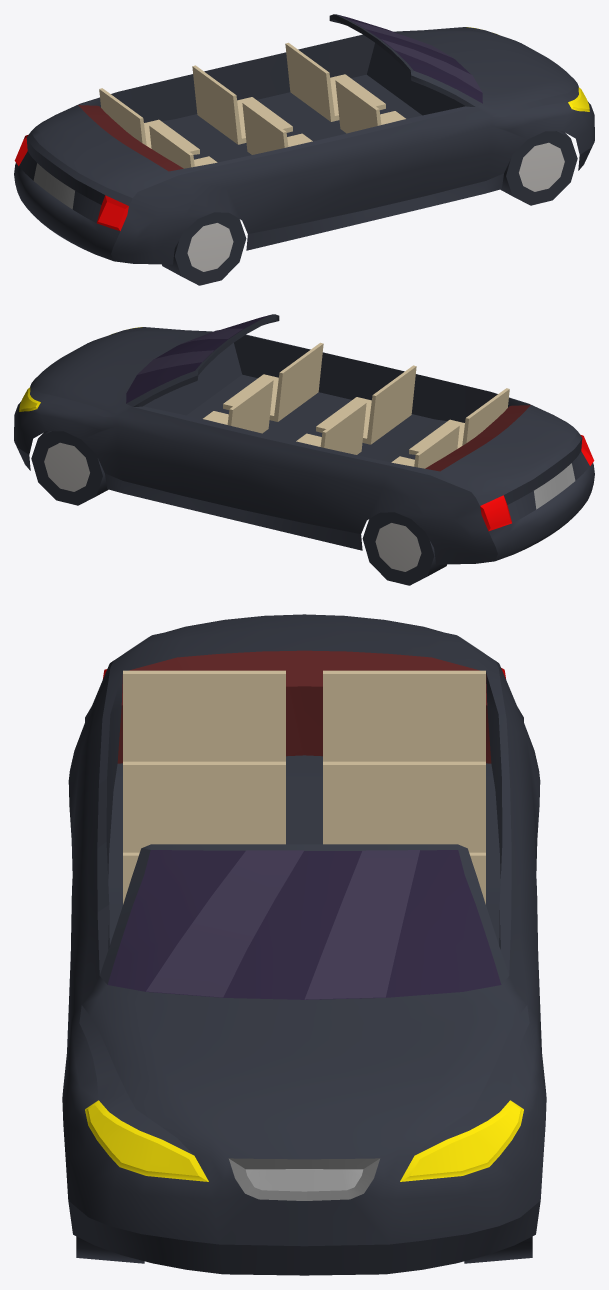
The model's file is vipcar_open.fbx.
3 renders of one model, top to bottom at view 1: azimuth 30°, elevation 25°; view 2: azimuth 150°, elevation 25°; view 3: azimuth 270°, elevation 25°, orthographic. The views are drawn at different scales.
Visible parts, largest first — view 1: vipcar_open; view 2: vipcar_open; view 3: vipcar_open.
Boxes of the visible parts, left/top/right/bottom form: vipcar_open: left=14, top=14, right=594, bottom=285; vipcar_open: left=14, top=314, right=594, bottom=585; vipcar_open: left=62, top=614, right=546, bottom=1275.
Bounding box in the file's own units: 24.97 × 6.9 × 10.
